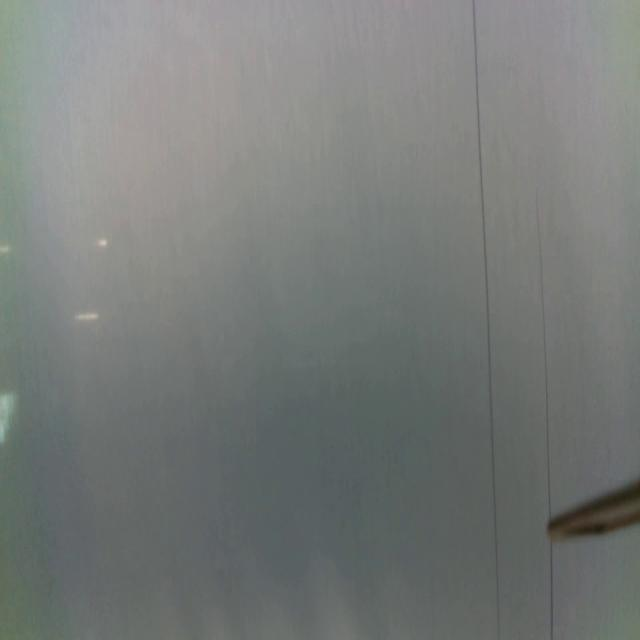crease: (470, 0, 502, 639), (535, 192, 556, 640)
